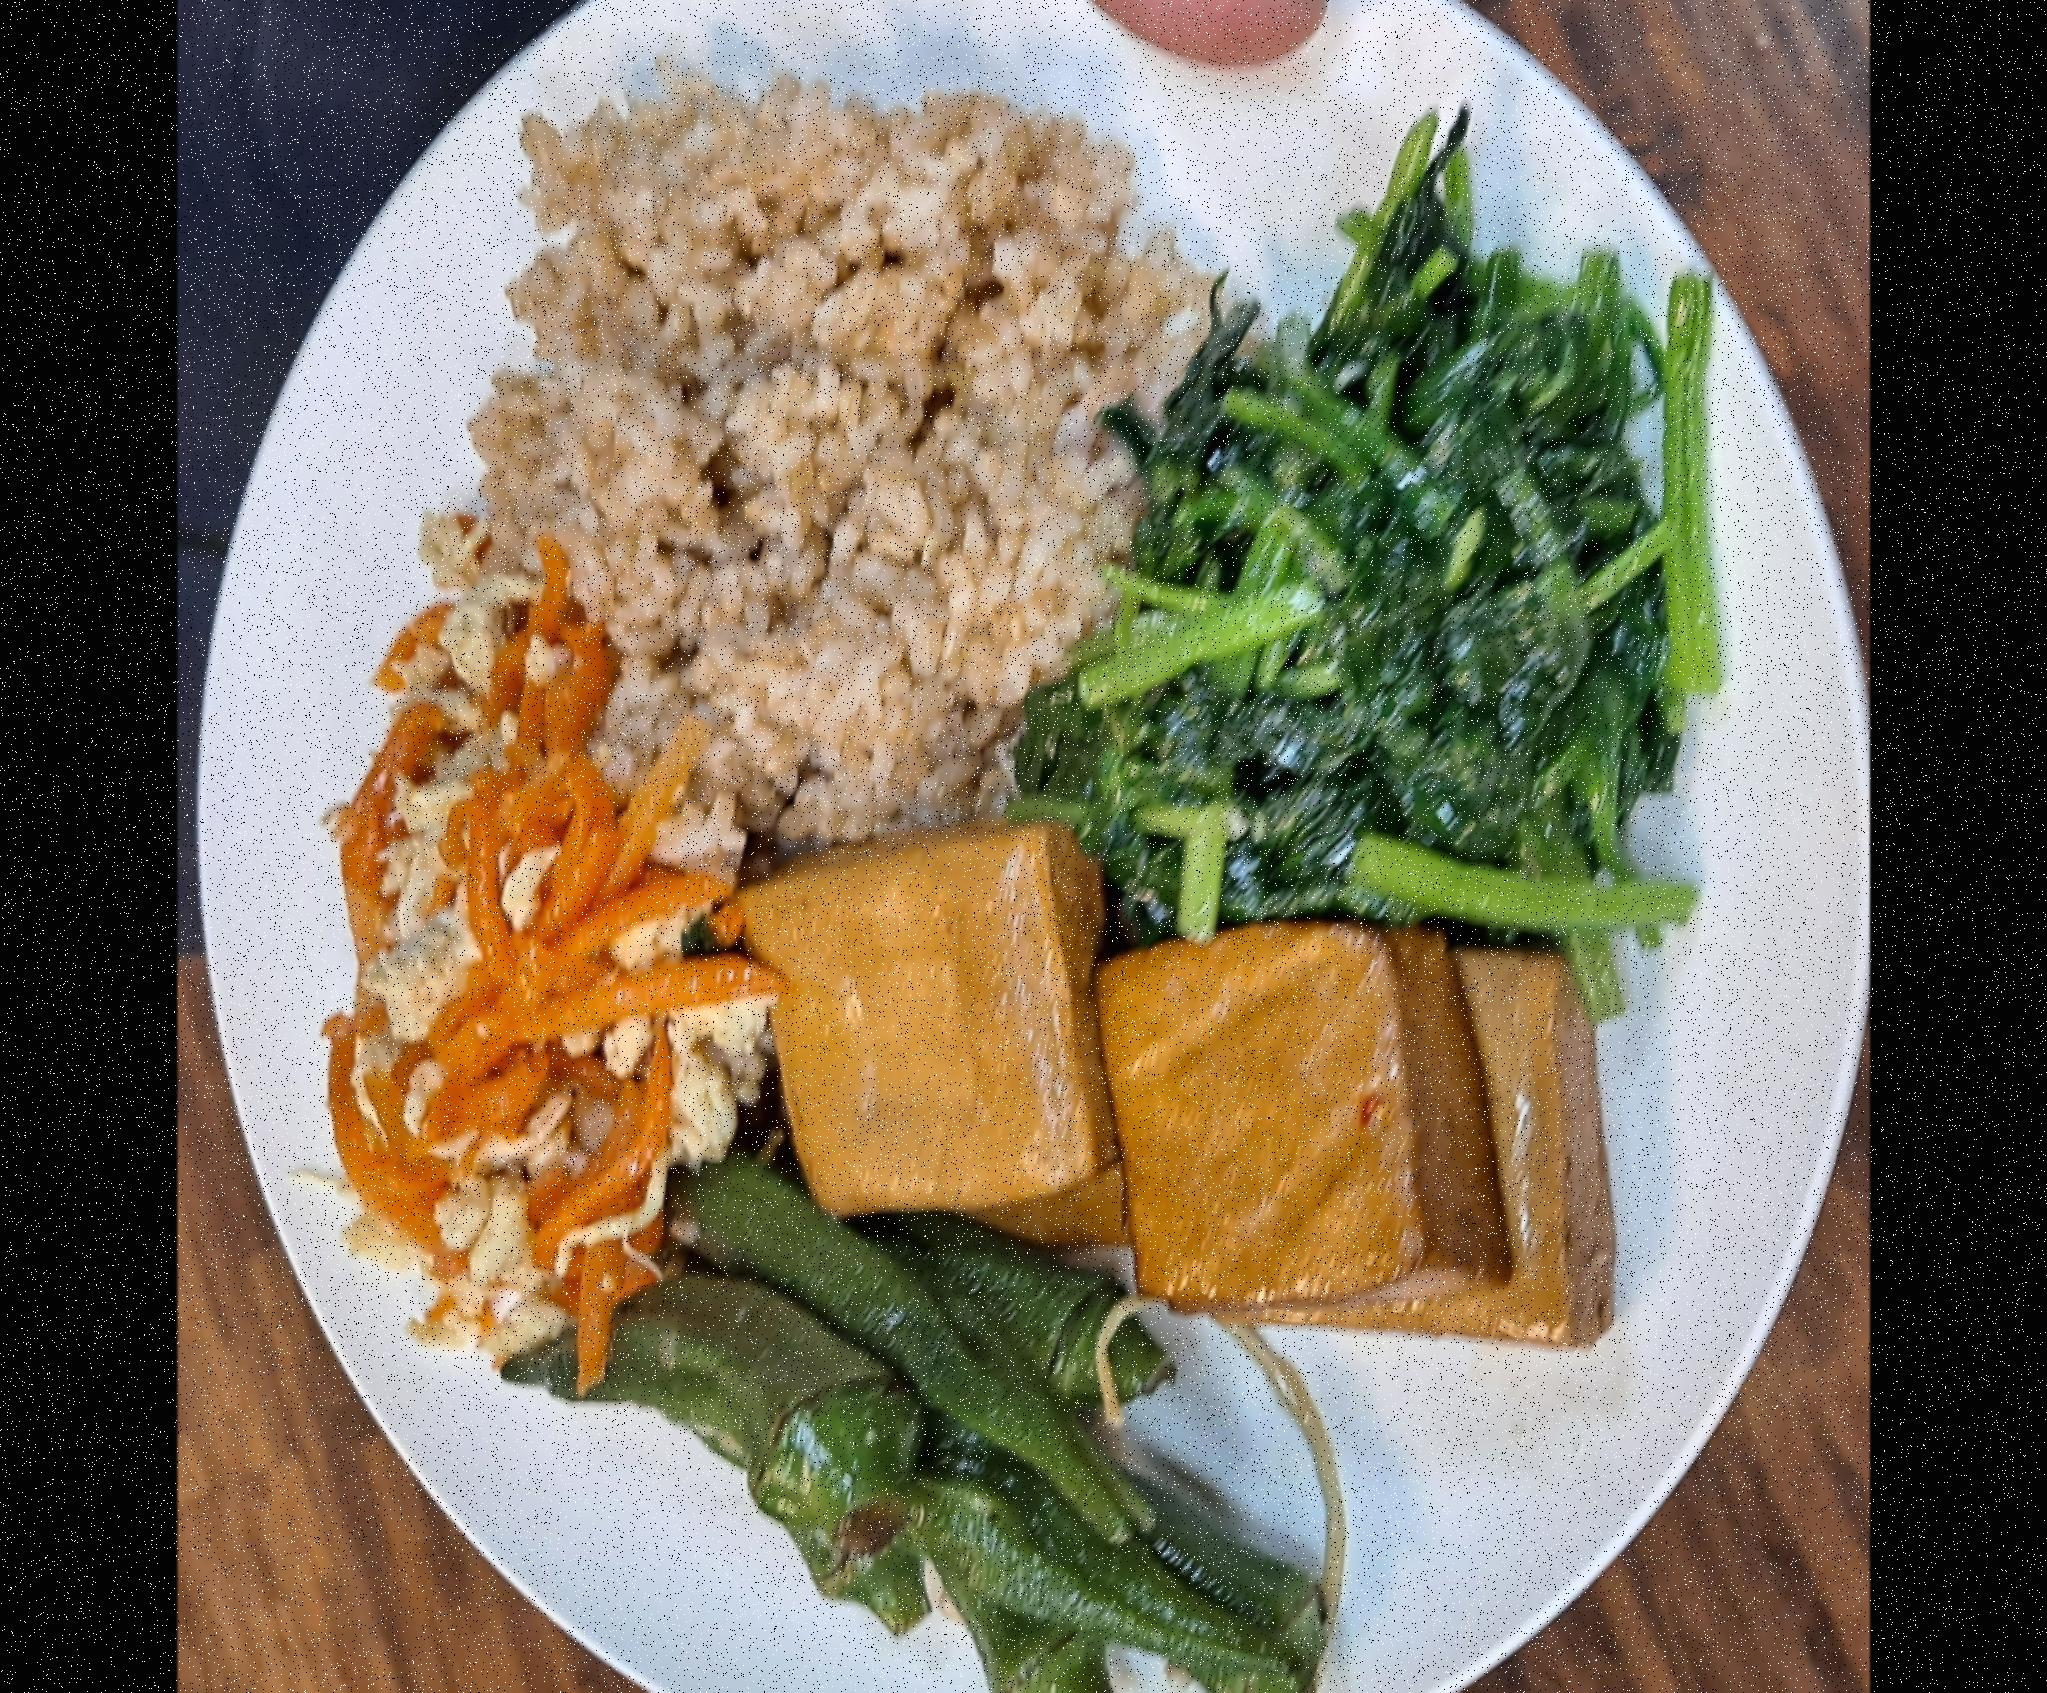big fried chicken leg: (185, 0, 1870, 1693)
box: (458, 60, 1190, 828)
braised fish fillet: (1031, 119, 1729, 939), (746, 811, 1614, 1361), (501, 1149, 1324, 1693), (311, 588, 768, 1376)
